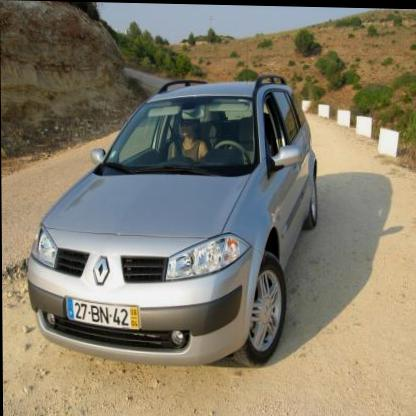License_Plate: (67, 297, 140, 333)
